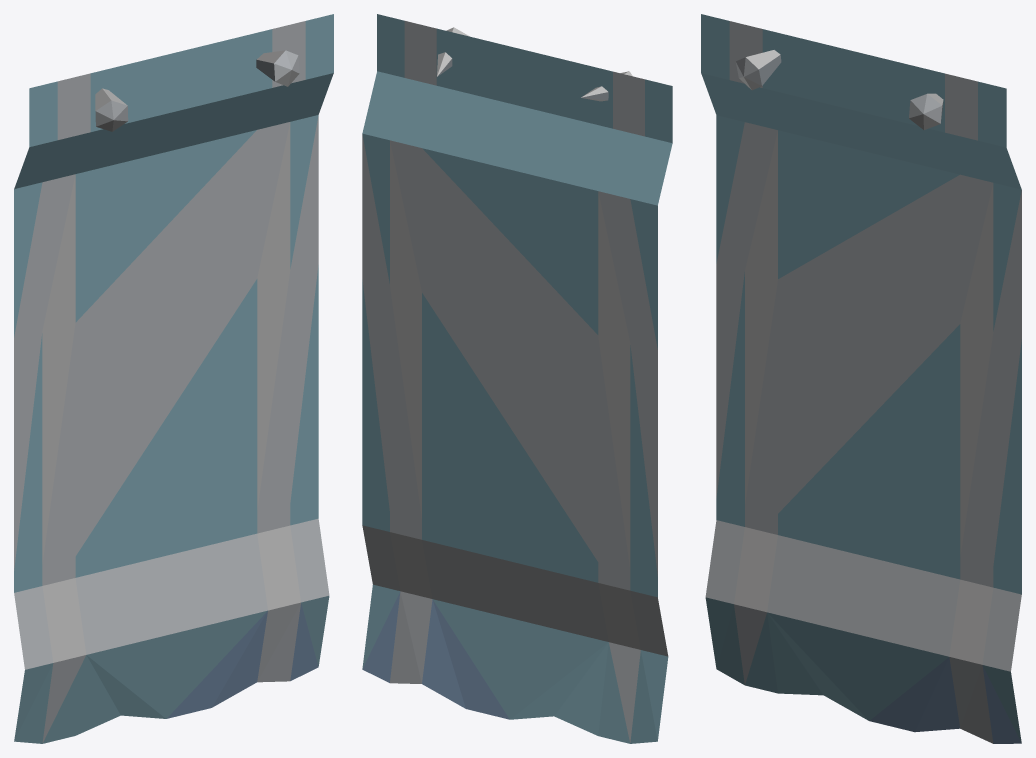
The picture shows the model from 3 angles, left to right: view 1: azimuth 30°, elevation 25°; view 2: azimuth 150°, elevation 25°; view 3: azimuth 330°, elevation 25°; orthographic projection. The views are drawn at different scales.
Visible parts, largest first — view 1: model; view 2: model; view 3: model.
Boxes of the visible parts, box(x1,y1,x2,y2) form: model: box(14, 14, 333, 743); model: box(362, 14, 672, 743); model: box(701, 14, 1021, 743).
Bounding box in the file's own units: 1.05 × 2.24 × 0.2183.
